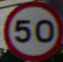Speed limit: (3, 2, 59, 53)
